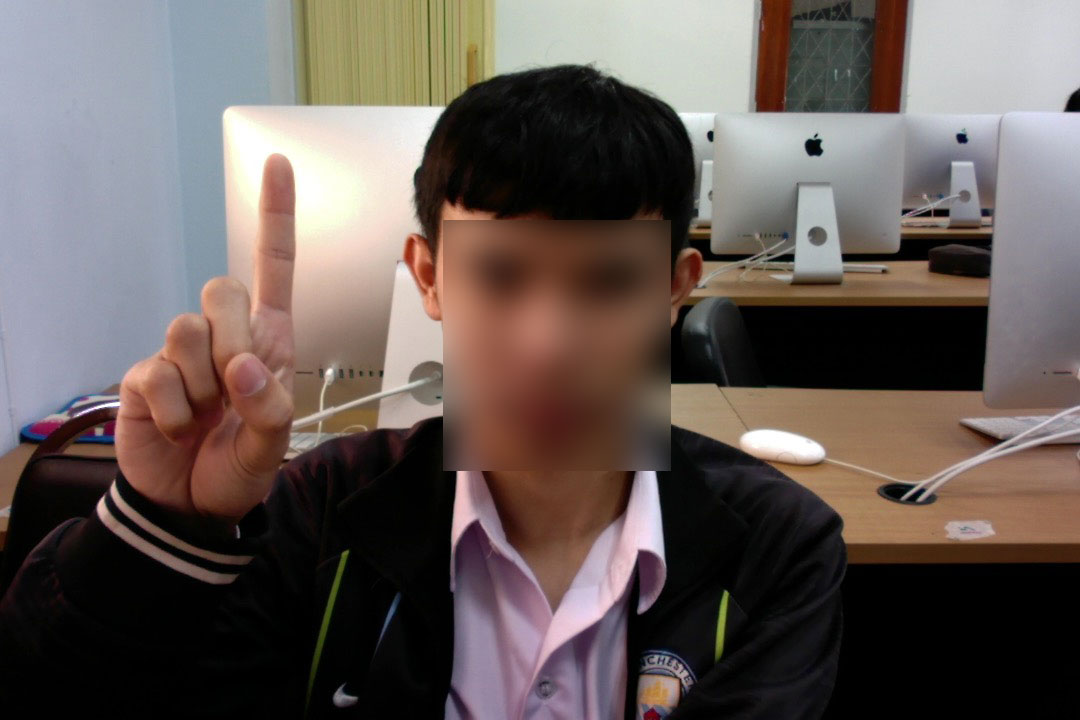dor: (73, 146, 311, 525)
